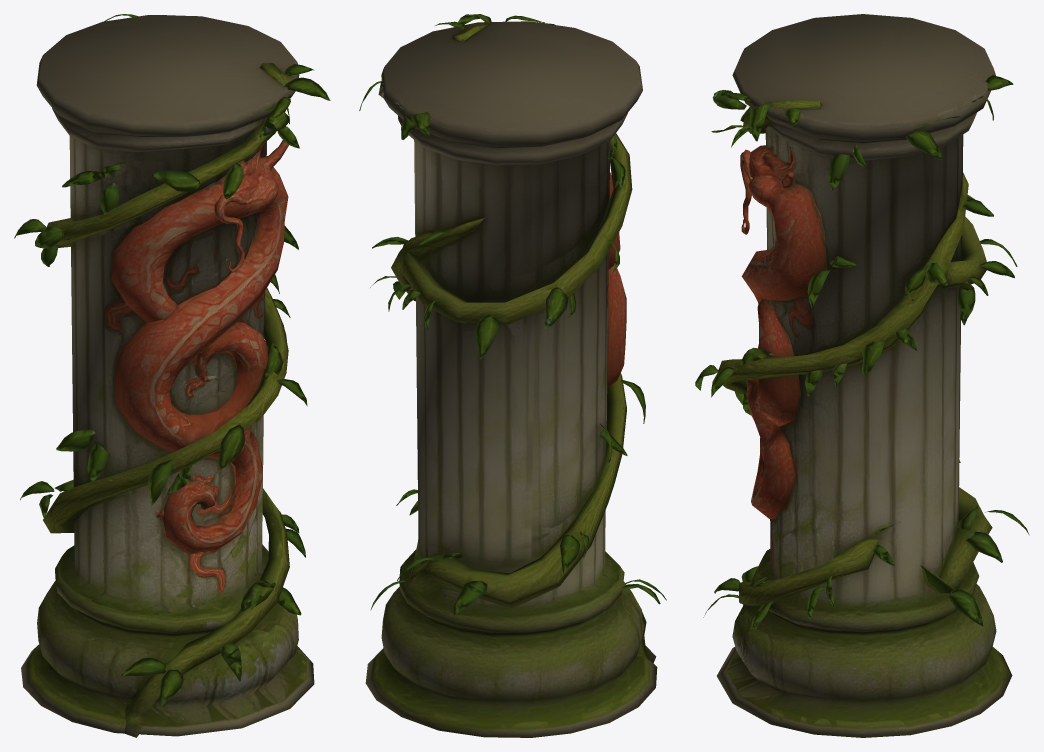
The model's file is selected.glb.
The picture shows the model from 3 angles, left to right: view 1: azimuth 30°, elevation 25°; view 2: azimuth 150°, elevation 25°; view 3: azimuth 270°, elevation 25°; orthographic projection.
Visible parts, largest first — view 1: tripo_node_99b3a55b-2267-4d35-9a96-d1def010aa4e; view 2: tripo_node_99b3a55b-2267-4d35-9a96-d1def010aa4e; view 3: tripo_node_99b3a55b-2267-4d35-9a96-d1def010aa4e.
Part boxes in pixels (x1,y1,x2,y2): tripo_node_99b3a55b-2267-4d35-9a96-d1def010aa4e: (14,14,330,737); tripo_node_99b3a55b-2267-4d35-9a96-d1def010aa4e: (359,14,666,737); tripo_node_99b3a55b-2267-4d35-9a96-d1def010aa4e: (695,14,1029,737).
Bounding box in the file's own units: 0.4355 × 0.998 × 0.4941.
Materials: 1 (1 with a texture image).
